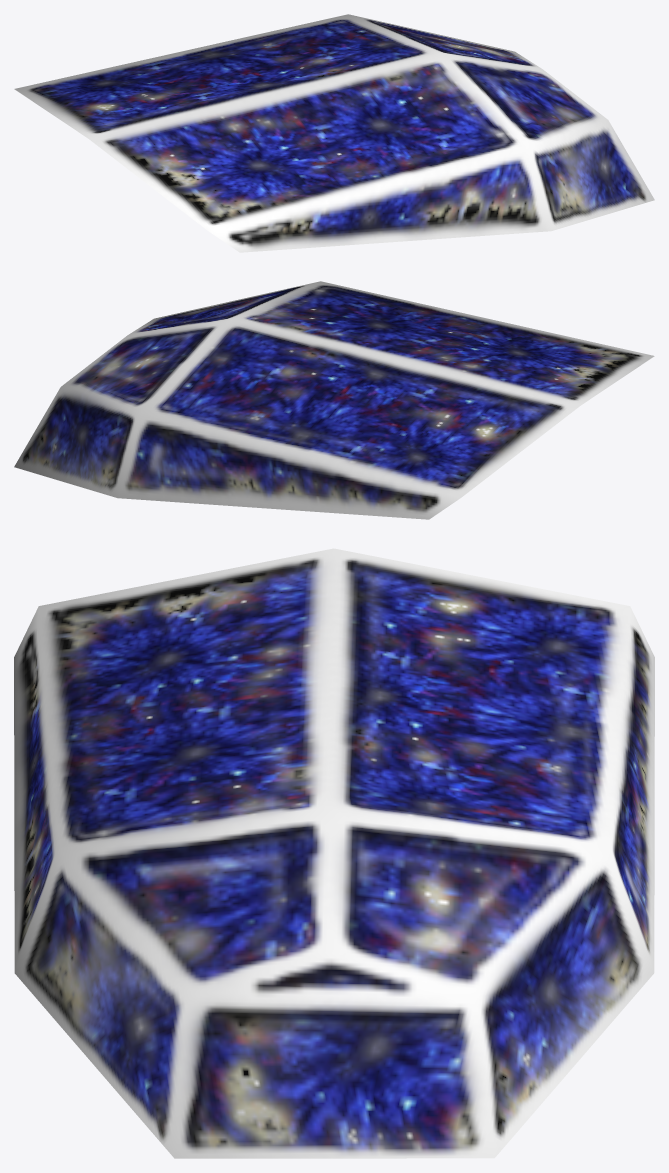
File: shieldModel.fbx
The picture shows the model from 3 angles, top to bottom: view 1: azimuth 30°, elevation 25°; view 2: azimuth 150°, elevation 25°; view 3: azimuth 270°, elevation 25°; orthographic projection. The views are drawn at different scales.
Parts seen in each view (by area): view 1: Объект_Плоскость; view 2: Объект_Плоскость; view 3: Объект_Плоскость.
Boxes of the visible parts, bbox=[...] form: Объект_Плоскость: bbox=[14, 14, 654, 252]; Объект_Плоскость: bbox=[14, 281, 654, 519]; Объект_Плоскость: bbox=[14, 548, 654, 1158].
Size of the model in its own units: 613 by 169 by 433.
